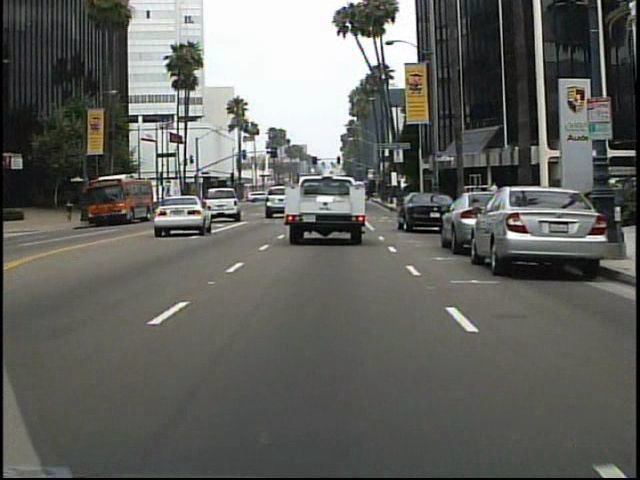person: (486, 179, 504, 222), (64, 192, 79, 227)
